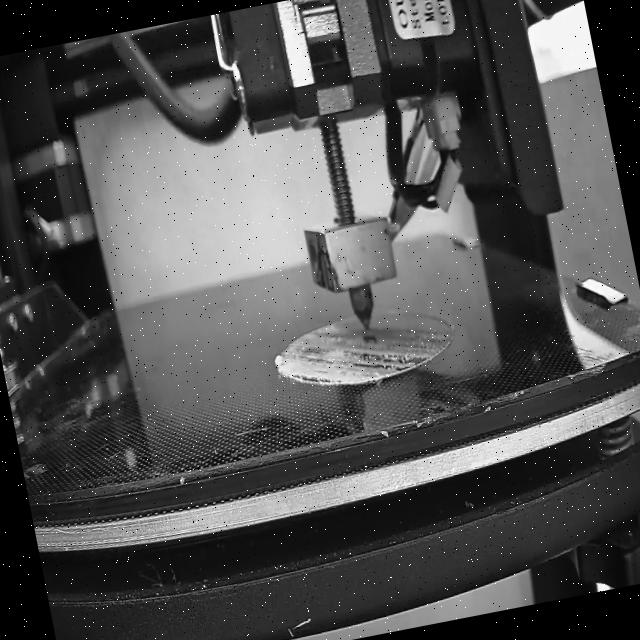under_extrusion: (346, 324, 436, 380), (286, 337, 333, 390)
